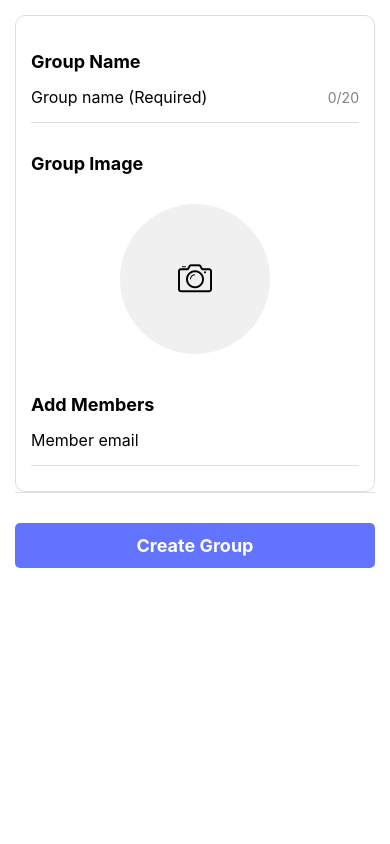
Scenario: CreateGroupScreen › handles adding a member
Type "user@example.com" into the field with placeholder "Member email" at {"x": 195, "y": 440}, box [31,425,359,455]
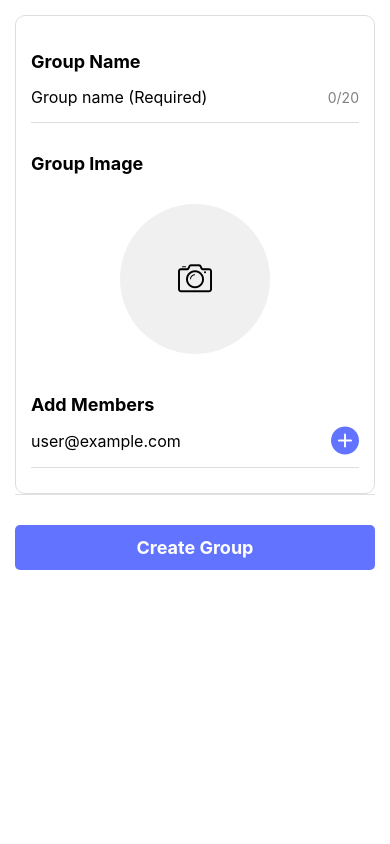
Check: the button with test id "addMemberButton" is shown
Click the button with test id "addMemberButton" at {"x": 345, "y": 441}, box [331,425,359,457]
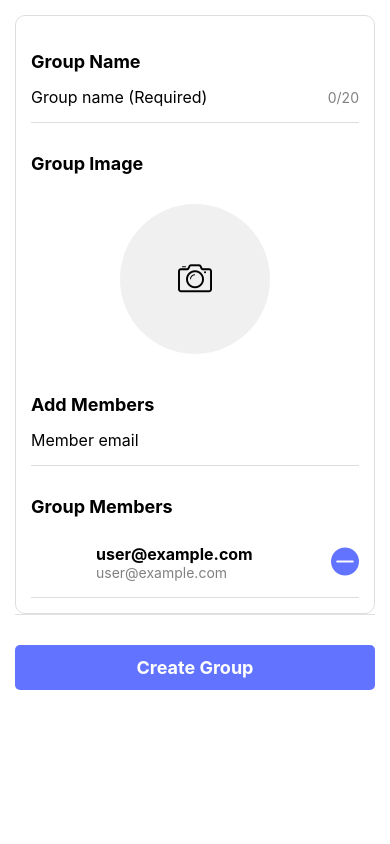
Check: the 1st text "user@example.com" is shown, box [96,544,253,564]
